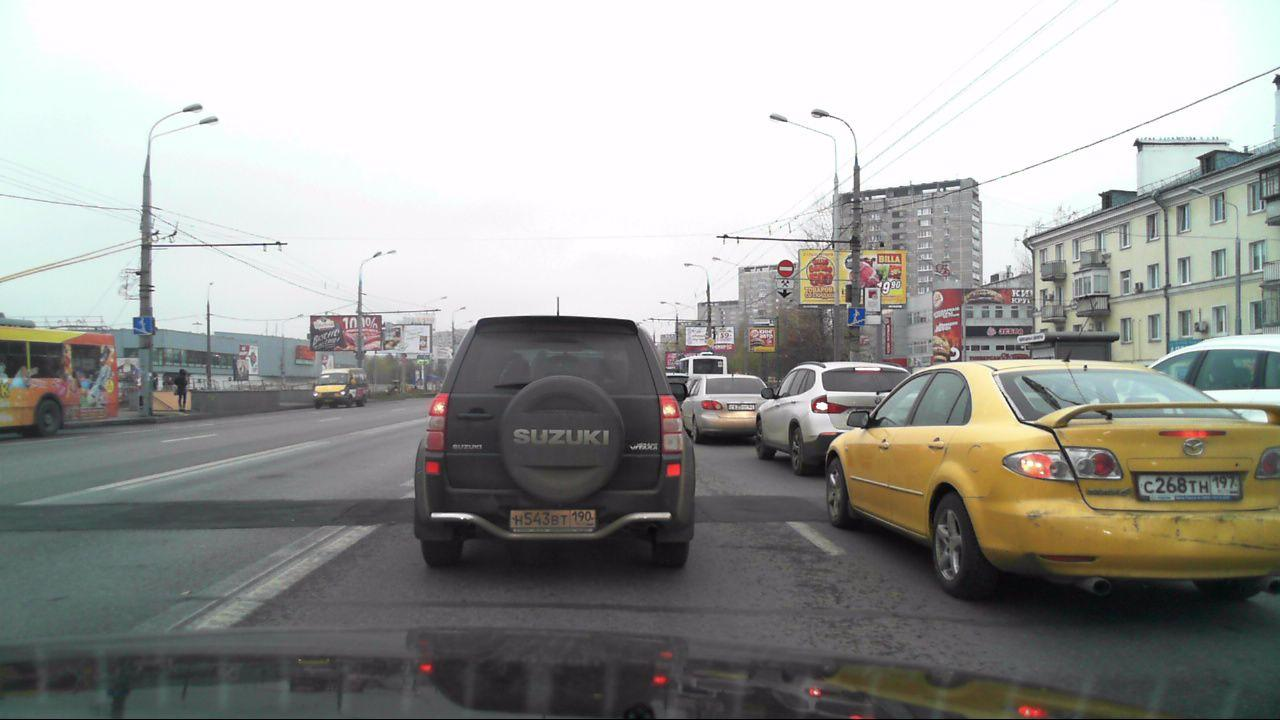road_sign: (847, 307, 865, 326), (133, 318, 154, 334), (778, 260, 794, 278)
